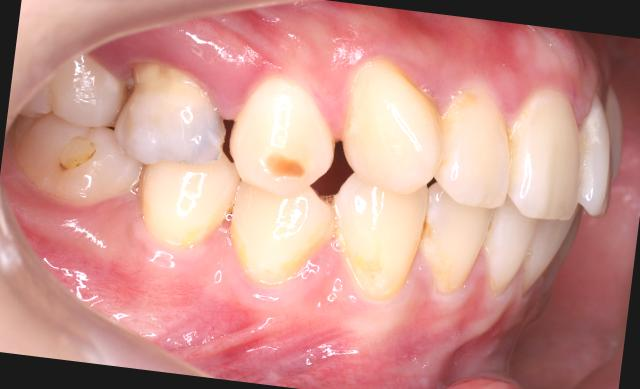canine class II 3/4: (220, 38, 462, 318)
molar class III 1/4: (0, 41, 164, 231)
